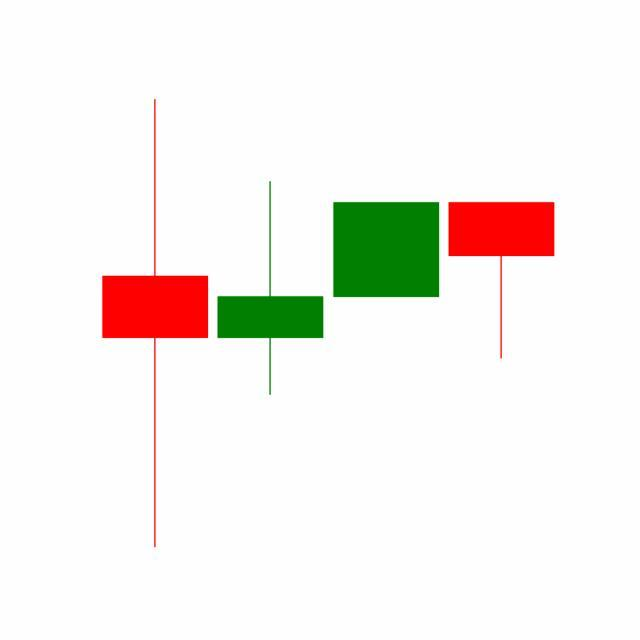Hammer: (444, 200, 560, 361)
